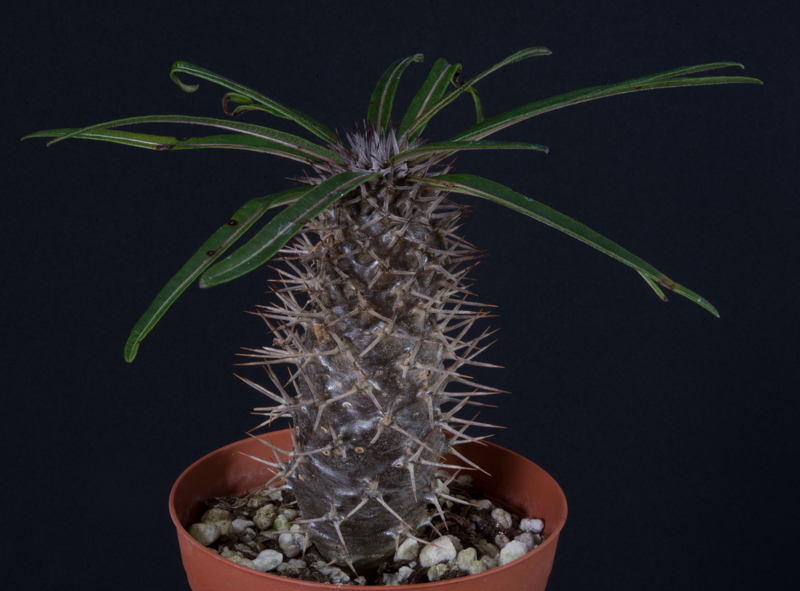Pachypodium geayi: (242, 104, 517, 556)
